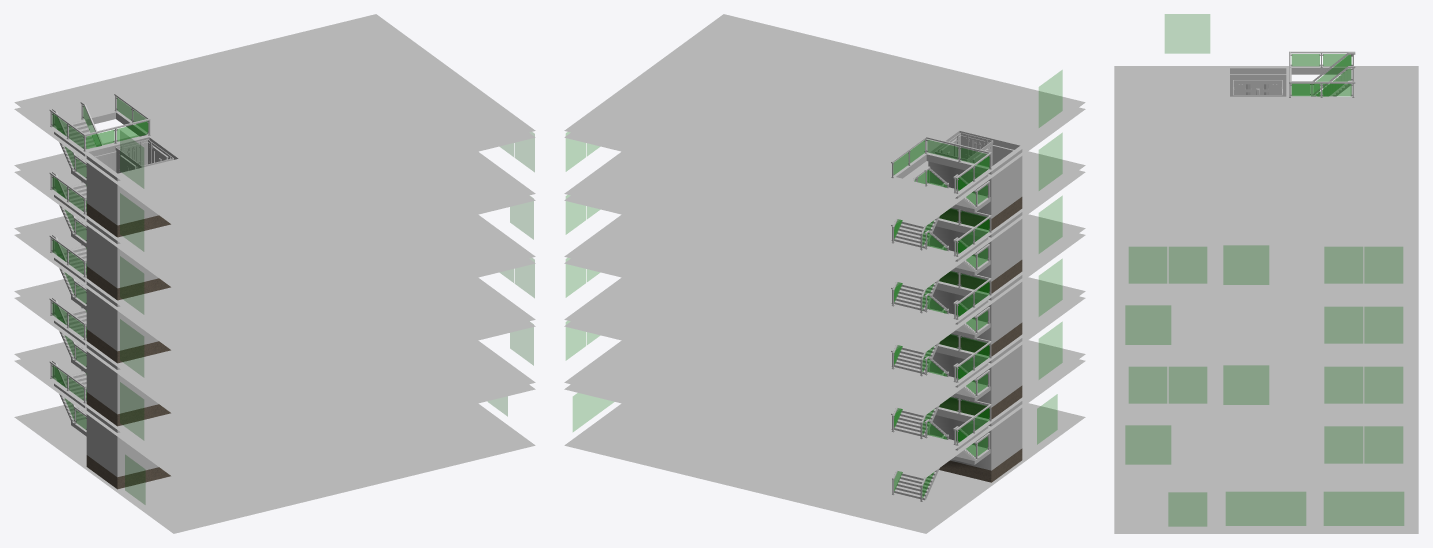
File: SM_Building23_Interior01.fbx
3 views of the same model, side by side, from view 1: azimuth 30°, elevation 25°; view 2: azimuth 150°, elevation 25°; view 3: azimuth 270°, elevation 25° (orthographic). The views are drawn at different scales.
Parts seen in each view (by area): view 1: SM_Building_23_Interior01; view 2: SM_Building_23_Interior01; view 3: SM_Building_23_Interior01.
Part boxes in pixels (bbox=[...]): SM_Building_23_Interior01: bbox=[14, 14, 535, 533]; SM_Building_23_Interior01: bbox=[564, 14, 1085, 533]; SM_Building_23_Interior01: bbox=[1114, 14, 1418, 533].
Bounding box in the file's own units: 2504 × 2474 × 1863.
